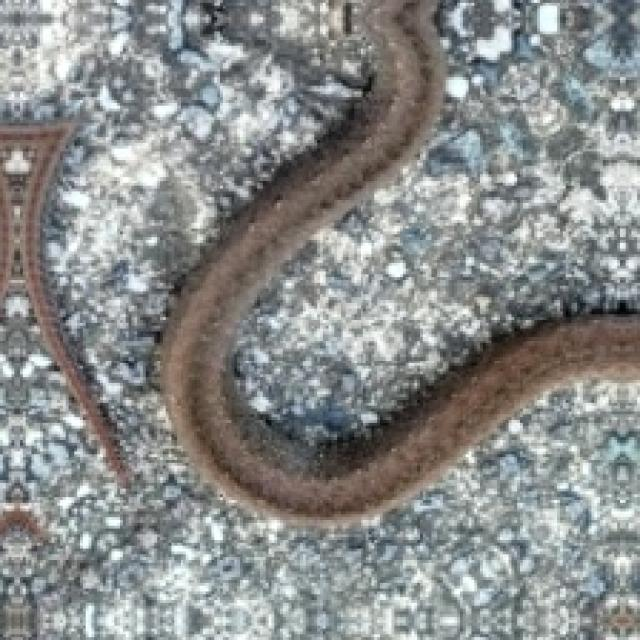reinhardts lined snake: (163, 0, 637, 523), (0, 124, 131, 487)
